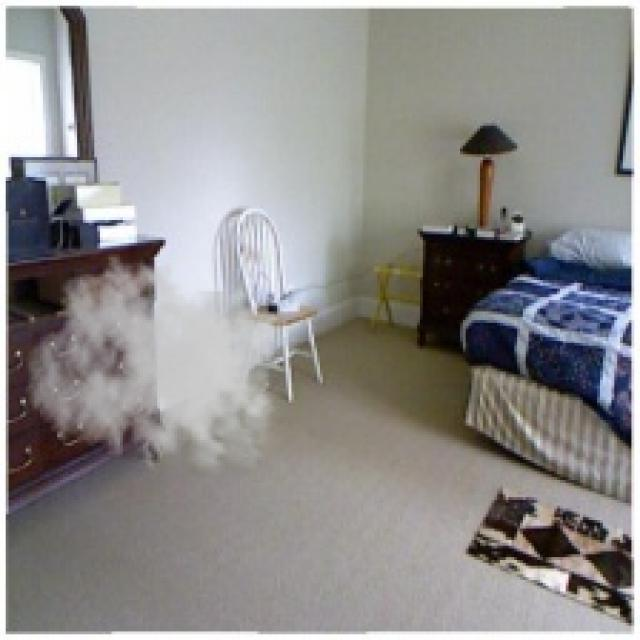Smoke: (25, 254, 292, 486)
